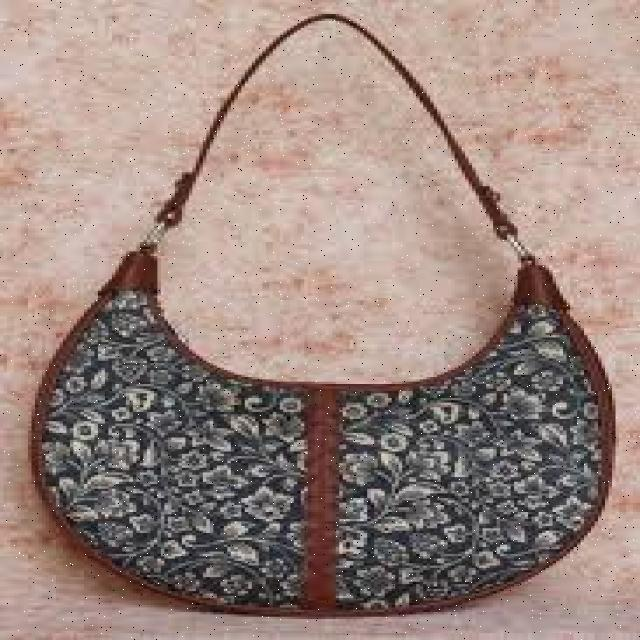handbag: (24, 11, 616, 616)
